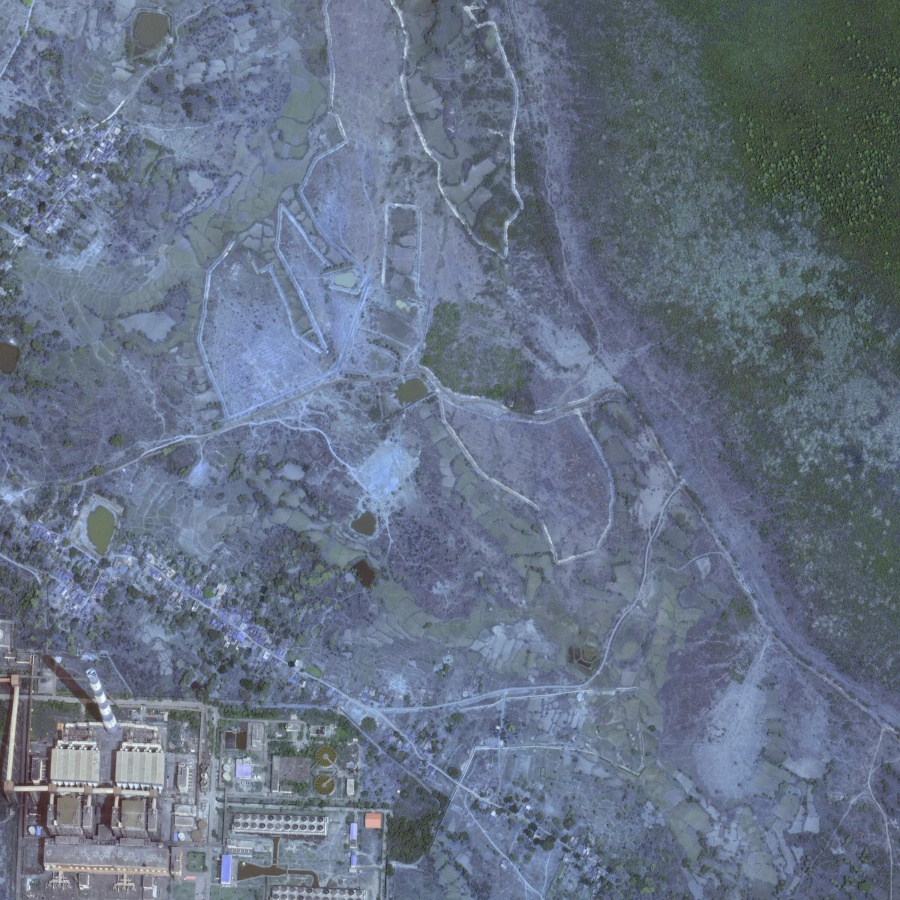PowerPlant: (17, 629, 171, 762)
